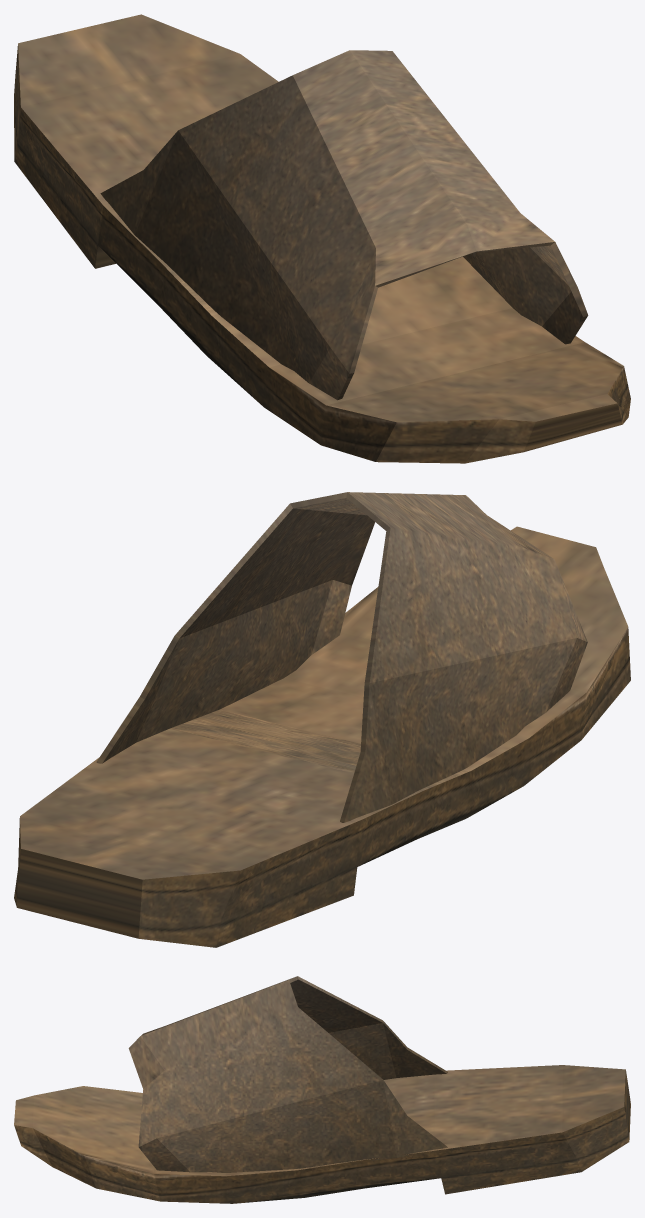
Rendered from Sandals.fbx.
The picture shows the model from 3 angles, top to bottom: view 1: azimuth 30°, elevation 25°; view 2: azimuth 150°, elevation 25°; view 3: azimuth 270°, elevation 25°; orthographic projection. The views are drawn at different scales.
Parts seen in each view (by area): view 1: Plane, Plane.001; view 2: Plane, Plane.001; view 3: Plane.001, Plane.
Boxes of the visible parts, x1,y1,x2,y2 form: Plane: (14,14,630,463); Plane.001: (100,50,588,400); Plane: (14,526,630,947); Plane.001: (96,492,587,822); Plane.001: (128,976,447,1172); Plane: (14,1065,630,1203).
Bounding box in the file's own units: 102 × 109 × 331.
1 material, 1 textured.
